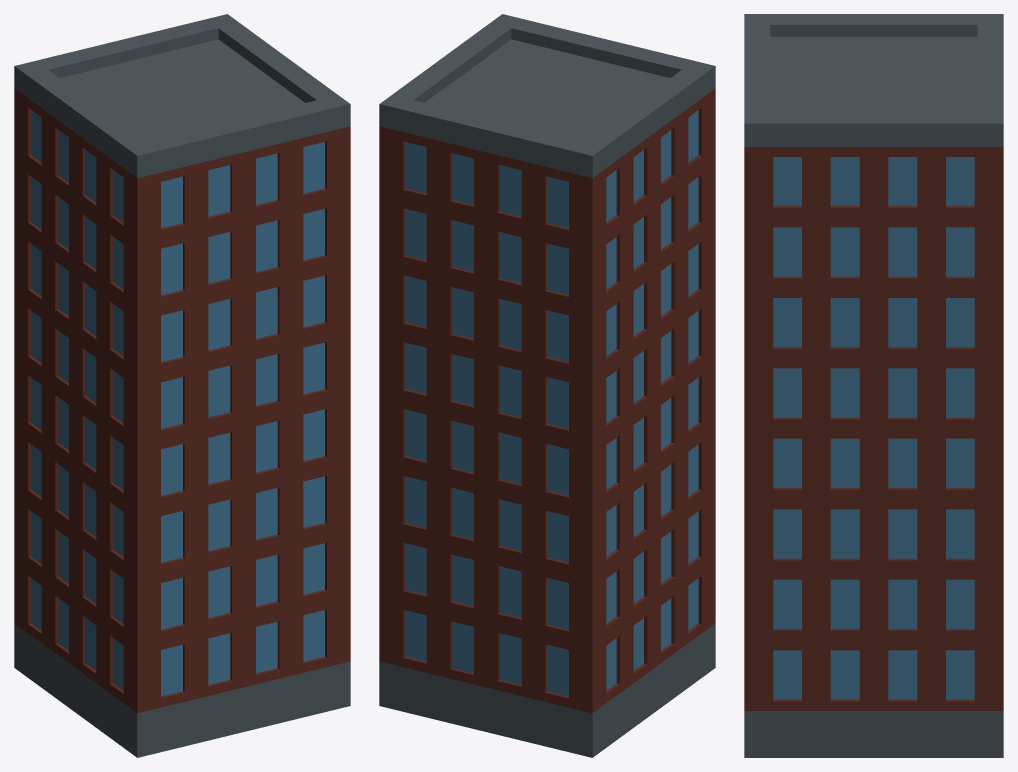
The model's file is Build_01_High.fbx.
The picture shows the model from 3 angles, left to right: view 1: azimuth 30°, elevation 25°; view 2: azimuth 150°, elevation 25°; view 3: azimuth 270°, elevation 25°; orthographic projection. The views are drawn at different scales.
Visible parts, largest first — view 1: Build_01_High; view 2: Build_01_High; view 3: Build_01_High.
Boxes of the visible parts, x1,y1,x2,y2 form: Build_01_High: (14, 14, 350, 757); Build_01_High: (379, 14, 715, 757); Build_01_High: (744, 14, 1003, 757).
Size of the model in its own units: 10 by 27 by 10.
